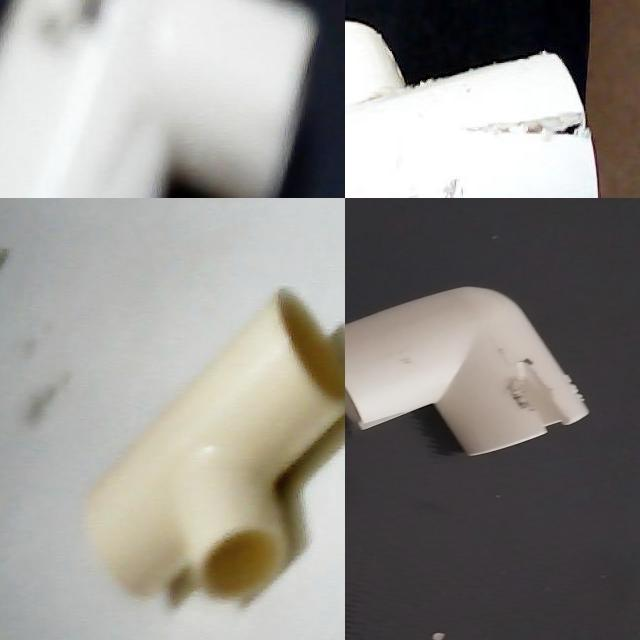Defective: (10, 0, 189, 76), (451, 98, 595, 152), (514, 357, 571, 432)
L Joint: (345, 286, 590, 458)
T Joint: (86, 290, 345, 599), (345, 11, 599, 198)
